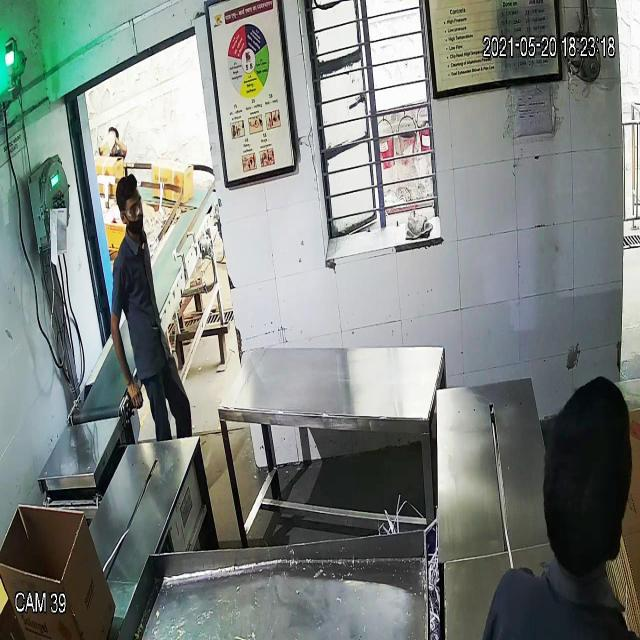glasses: (115, 198, 147, 220)
